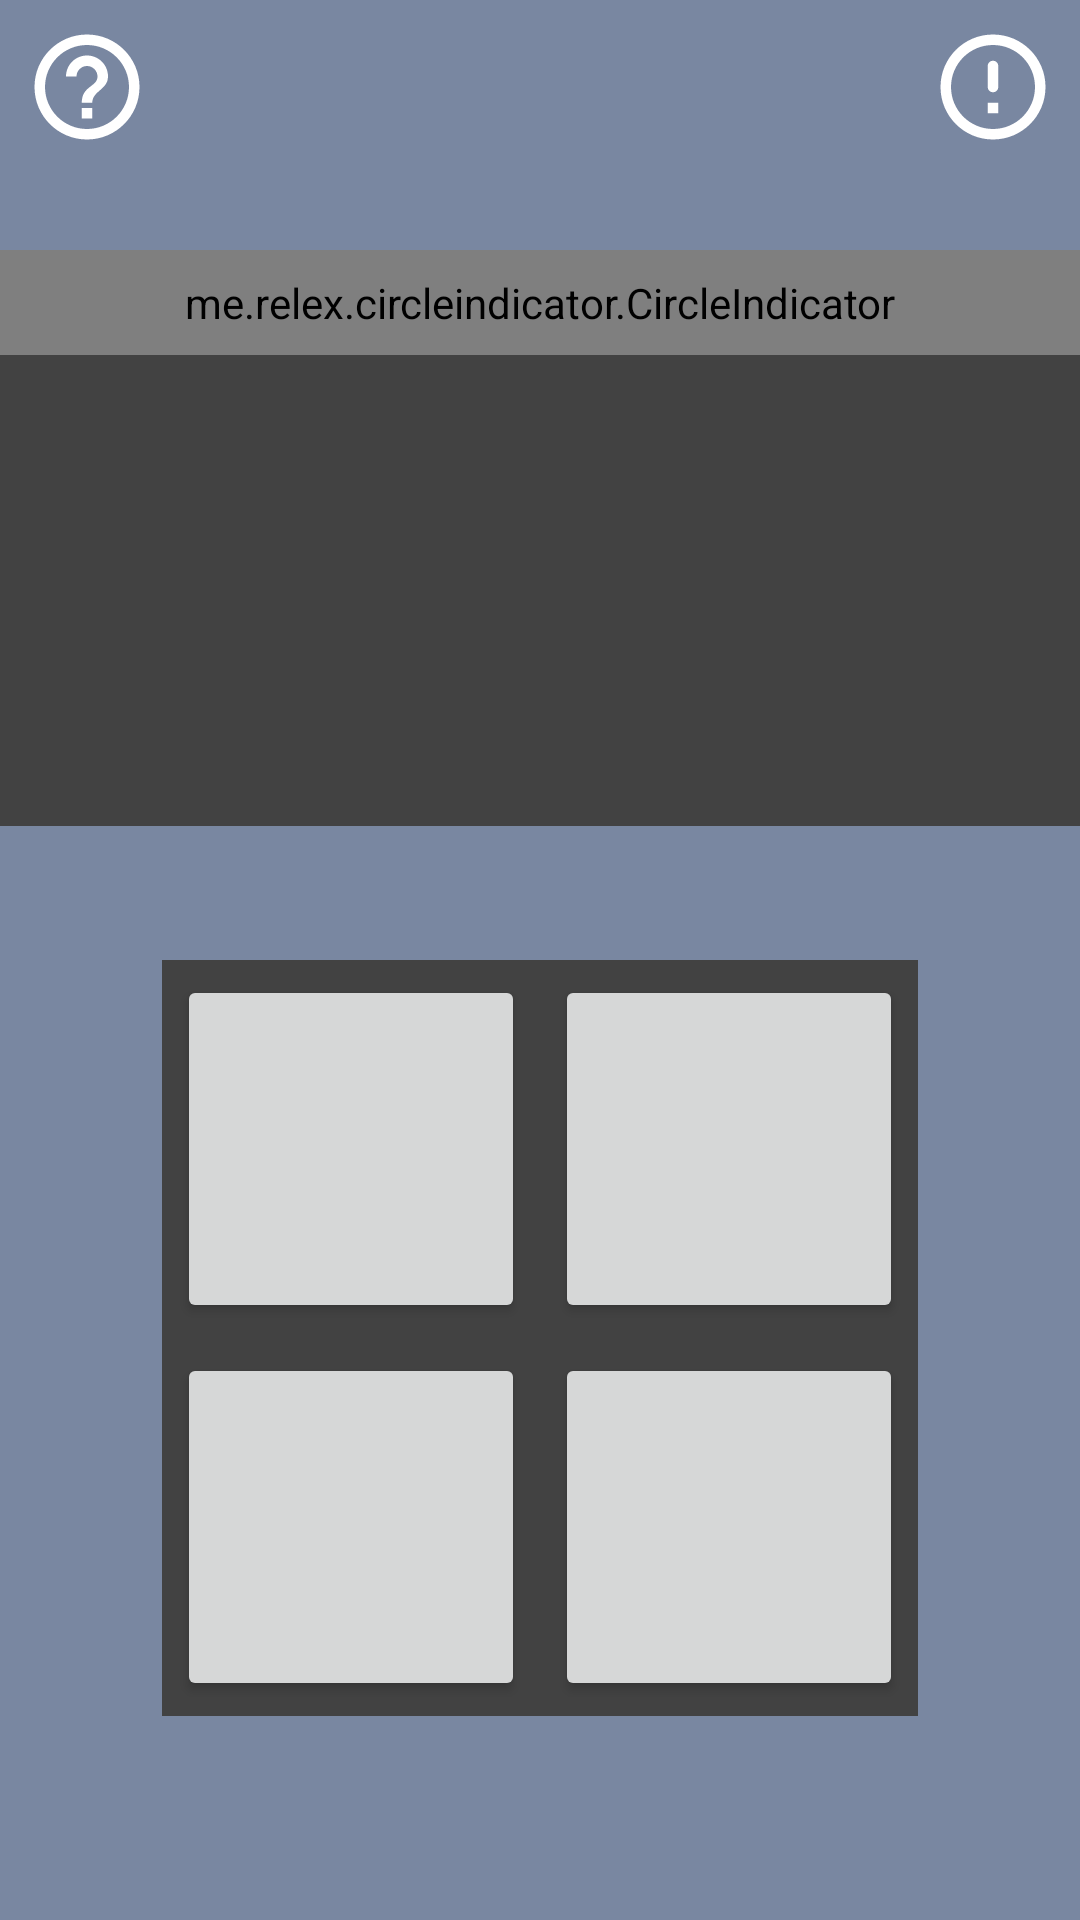

Icons on this 1080×1920 Android screen, each with the point to tap as (x,y):
exclamation: (993,87)
help: (87,87)
